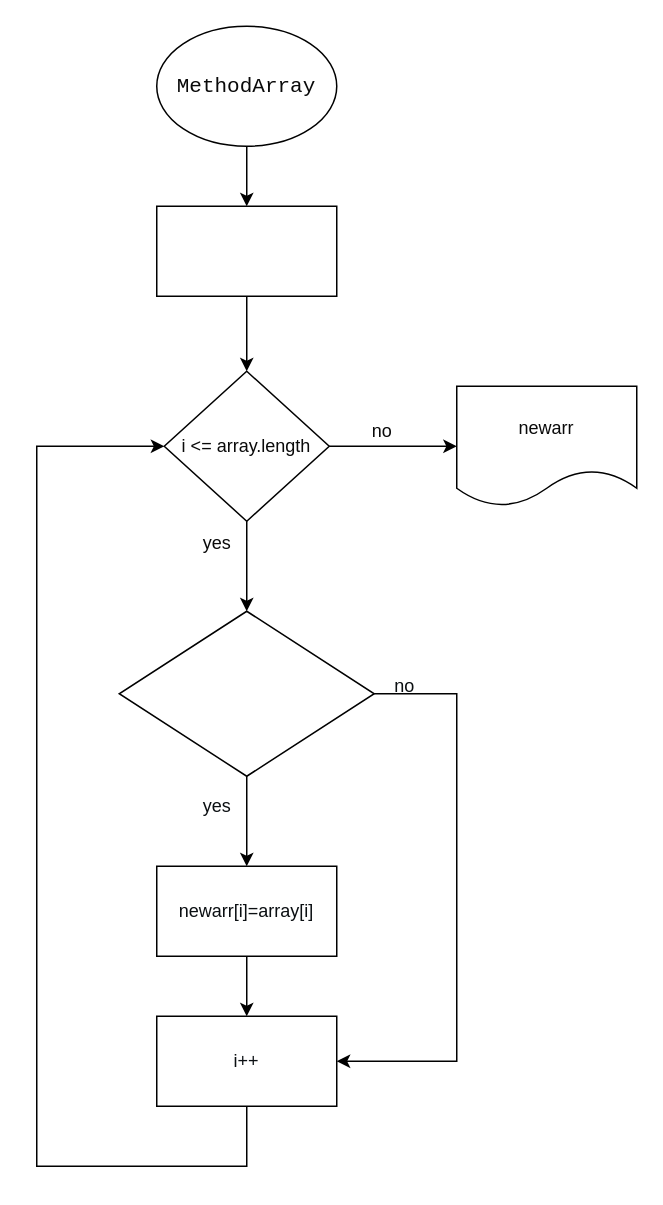
Some shapes in this 663 by 1205 pixel diagram are drawn without their labels. The centre of each missing label's shape, as x and y in pixels:
"array[i].Length<=3" goes at point 246,693.
"string[] array string[] newarr int i = 0" goes at point 246,250.
